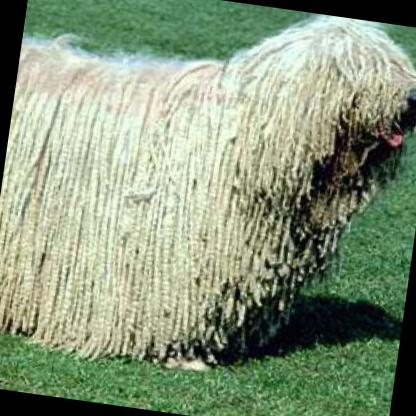komondor: (0, 0, 416, 406)
